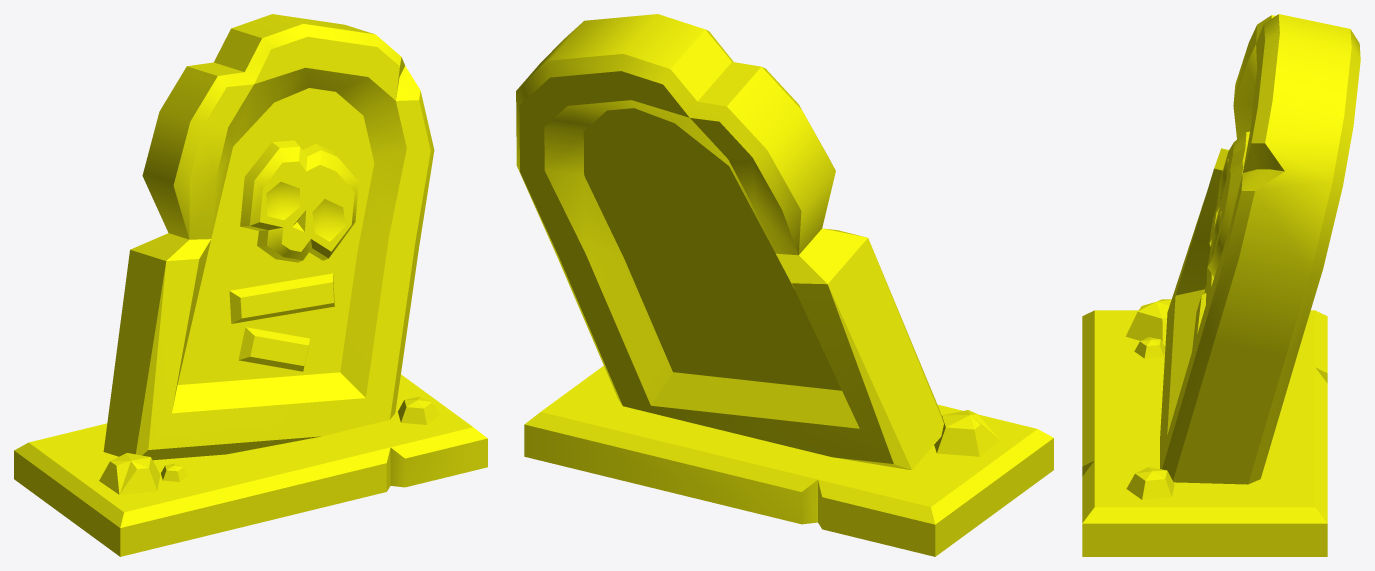
The model's file is kaykit-grave-a-destroyed.glb.
3 views of the same model, side by side, from view 1: azimuth 30°, elevation 25°; view 2: azimuth 150°, elevation 25°; view 3: azimuth 270°, elevation 25° (orthographic). The views are drawn at different scales.
Parts seen in each view (by area): view 1: grave_A_destroyed; view 2: grave_A_destroyed; view 3: grave_A_destroyed.
Part boxes in pixels (<box>): grave_A_destroyed: <box>14,14,487,556</box>; grave_A_destroyed: <box>516,14,1053,556</box>; grave_A_destroyed: <box>1082,14,1360,556</box>.
Bounding box in the file's own units: 2.08 × 2.11 × 1.14.
